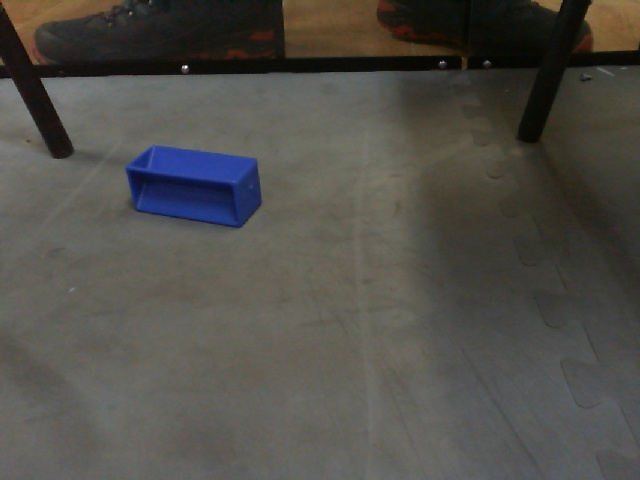BlueSample: (122, 143, 264, 232)
